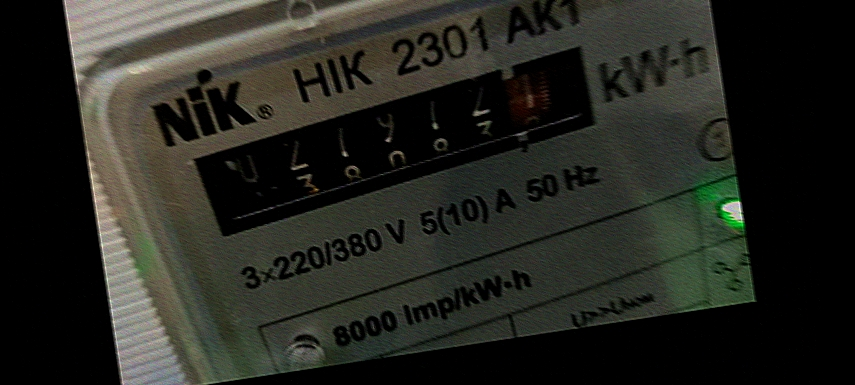0: (230, 145, 263, 185)
1: (514, 66, 542, 112)
2: (277, 129, 312, 172), (461, 77, 495, 118)
7: (416, 89, 447, 134), (326, 119, 354, 159)
9: (372, 105, 402, 143)
screen: (167, 30, 637, 250)
